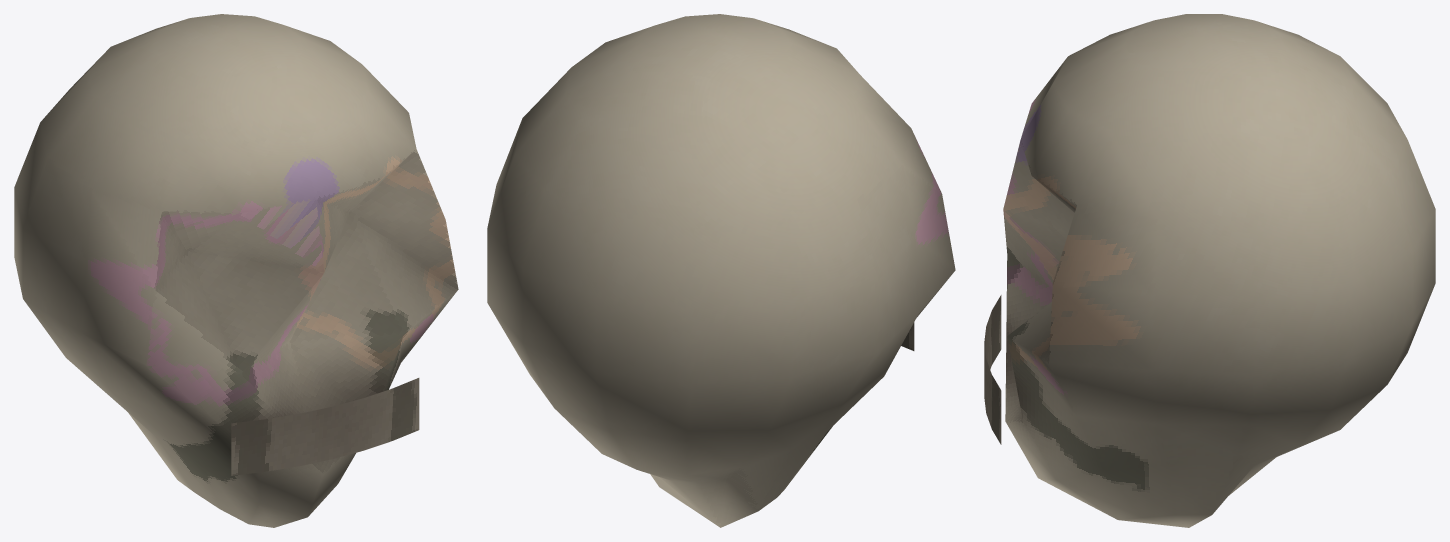
File: craneo_caido.glb
The picture shows the model from 3 angles, left to right: view 1: azimuth 30°, elevation 25°; view 2: azimuth 150°, elevation 25°; view 3: azimuth 270°, elevation 25°; orthographic projection. The views are drawn at different scales.
Parts seen in each view (by area): view 1: Prop_Craneo; view 2: Prop_Craneo; view 3: Prop_Craneo.
Part boxes in pixels (box(x1,y1,x2,y2)): Prop_Craneo: box(14, 14, 458, 527); Prop_Craneo: box(487, 14, 955, 527); Prop_Craneo: box(984, 14, 1435, 527).
Bounding box in the file's own units: 1.15 × 1.44 × 1.19.
1 material, 1 textured.
